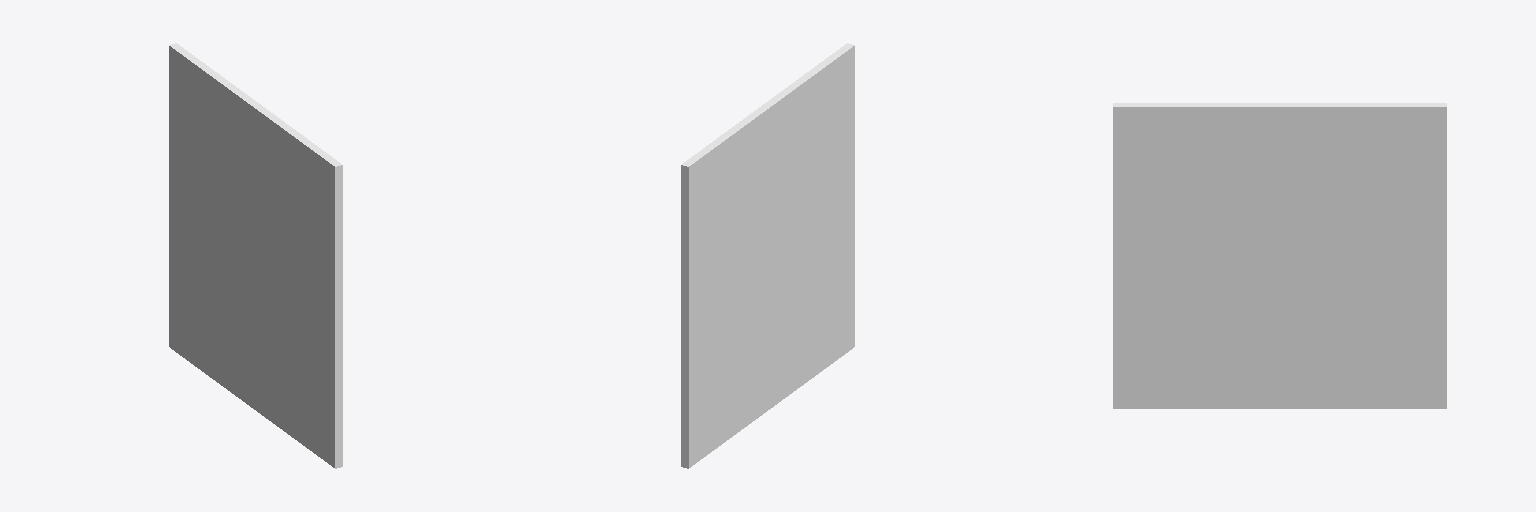
The model's file is fenetre-2.obj.
3 renders of one model, left to right at view 1: azimuth 30°, elevation 25°; view 2: azimuth 150°, elevation 25°; view 3: azimuth 270°, elevation 25°, orthographic.
Visible parts, largest first — view 1: object 1; view 2: object 1; view 3: object 1.
Part boxes in pixels (x1,y1,x2,y2): object 1: (169,43,342,468); object 1: (681,43,854,468); object 1: (1113,103,1446,408).
Size of the model in its own units: 0.1 by 3.6 by 3.6.